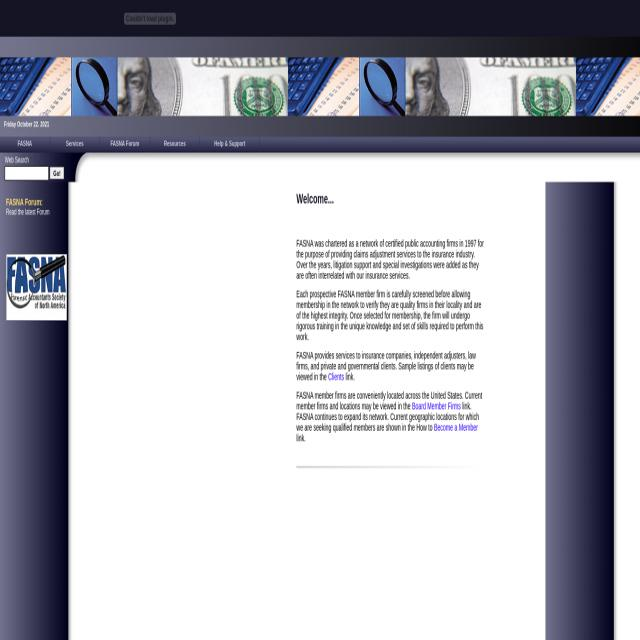button: (0, 57, 280, 116), (6, 255, 66, 319), (200, 136, 260, 153), (50, 136, 100, 153), (100, 136, 150, 153), (150, 136, 200, 153), (0, 136, 50, 153), (50, 167, 64, 180)
field: (5, 166, 49, 181)
